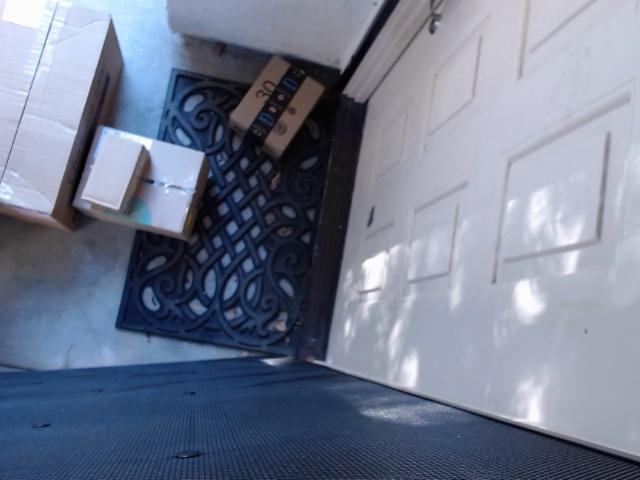box: (0, 0, 136, 245), (74, 115, 219, 235), (217, 51, 317, 157), (70, 122, 163, 217)
